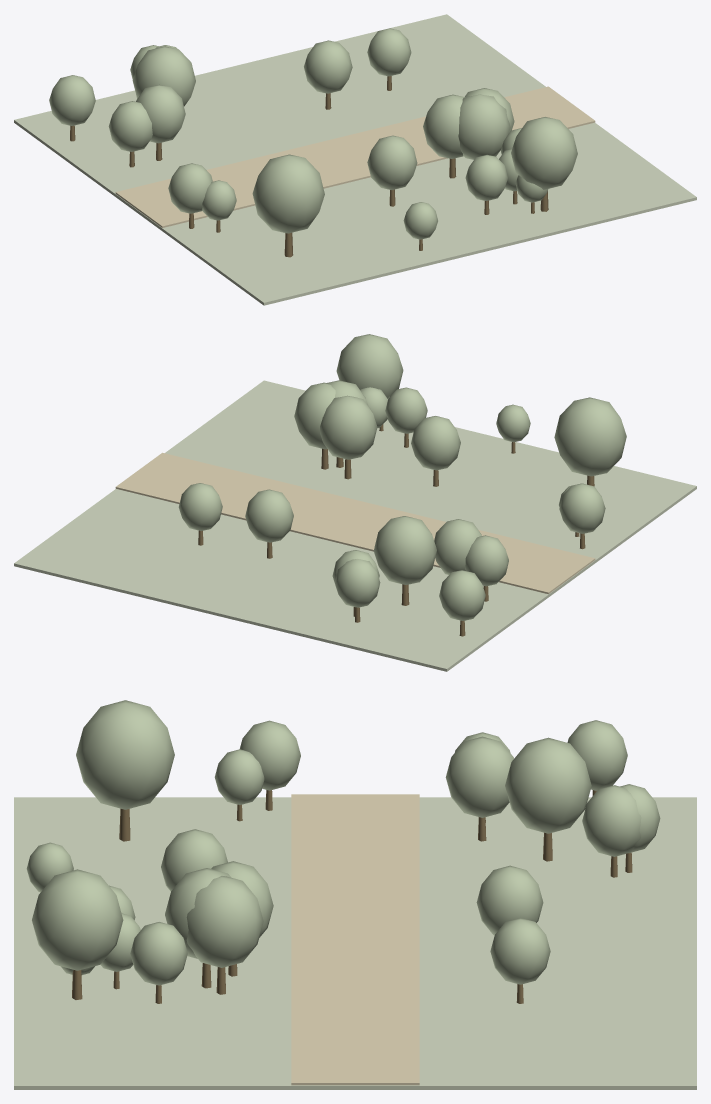
The picture shows the model from 3 angles, top to bottom: view 1: azimuth 30°, elevation 25°; view 2: azimuth 150°, elevation 25°; view 3: azimuth 270°, elevation 25°; orthographic projection. The views are drawn at different scales.
Visible parts, largest first — view 1: terrain, object 2, lod-near-1, lod-near-17, lod-near-14, lod-near-22, lod-near-18, lod-near-7, lod-near-13, lod-near-25, lod-near-16, lod-near-5 (+7 smaller); view 2: terrain, object 2, lod-near-1, lod-near-22, lod-near-17, lod-near-13, lod-near-18, lod-near-7, lod-near-16, lod-near-6, lod-near-25, lod-near-30 (+6 smaller); view 3: terrain, object 2, lod-near-1, lod-near-17, lod-near-22, lod-near-31, lod-near-25, lod-near-2, lod-near-7, lod-near-8, lod-near-12, lod-near-6 (+8 smaller).
Part boxes in pixels (x1,y1,x2,y2): terrain: [14, 14, 696, 305]; object 2: [115, 86, 595, 227]; lod-near-1: [252, 154, 324, 233]; lod-near-17: [511, 117, 577, 189]; lod-near-14: [458, 94, 510, 159]; lod-near-22: [132, 46, 195, 106]; lod-near-18: [367, 135, 417, 189]; lod-near-7: [304, 40, 352, 93]; lod-near-13: [423, 94, 464, 158]; lod-near-25: [136, 84, 185, 143]; lod-near-16: [49, 75, 95, 125]; lod-near-5: [108, 101, 152, 151]; terrain: [14, 380, 696, 671]; object 2: [115, 452, 595, 594]; lod-near-1: [554, 397, 626, 476]; lod-near-22: [373, 516, 436, 584]; lod-near-17: [336, 334, 403, 398]; lod-near-13: [320, 395, 377, 459]; lod-near-18: [411, 416, 460, 470]; lod-near-7: [245, 489, 293, 542]; lod-near-16: [439, 570, 485, 620]; lod-near-6: [559, 483, 605, 533]; lod-near-25: [434, 519, 481, 574]; lod-near-30: [335, 559, 380, 607]; terrain: [14, 797, 696, 1089]; object 2: [291, 794, 419, 1085]; lod-near-1: [76, 700, 174, 809]; lod-near-17: [32, 869, 123, 970]; lod-near-22: [505, 737, 591, 833]; lod-near-31: [186, 876, 263, 967]; lod-near-25: [445, 736, 513, 817]; lod-near-2: [582, 785, 641, 856]; lod-near-7: [476, 865, 543, 935]; lod-near-8: [490, 918, 550, 984]; lod-near-12: [130, 922, 187, 985]; lod-near-6: [240, 720, 300, 790].
Bounding box in the file's own units: 32 × 7.32 × 32.
